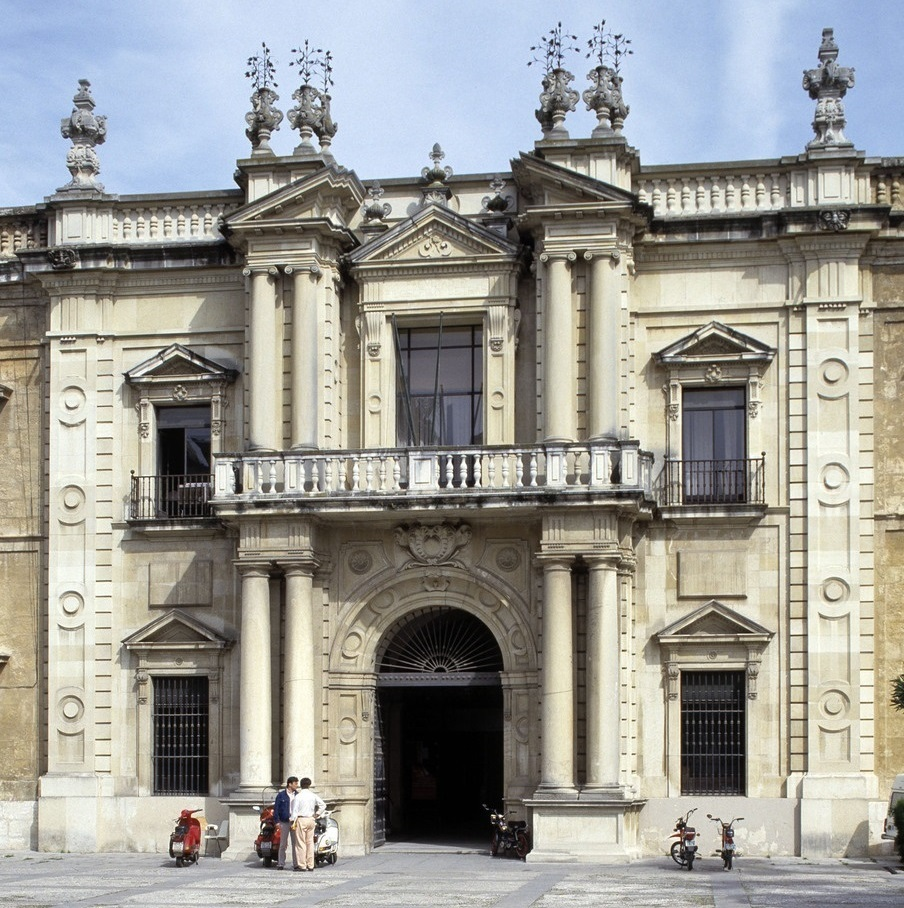arco-medio-punto: (360, 599, 526, 702)
fronton: (337, 205, 528, 269), (653, 318, 778, 376), (649, 599, 778, 649), (118, 339, 236, 390), (115, 609, 233, 657)
fronton-partido: (214, 146, 642, 234)
vano-adintelado: (346, 287, 523, 490), (657, 654, 768, 800), (660, 371, 765, 519), (128, 390, 229, 527), (132, 659, 228, 800)
